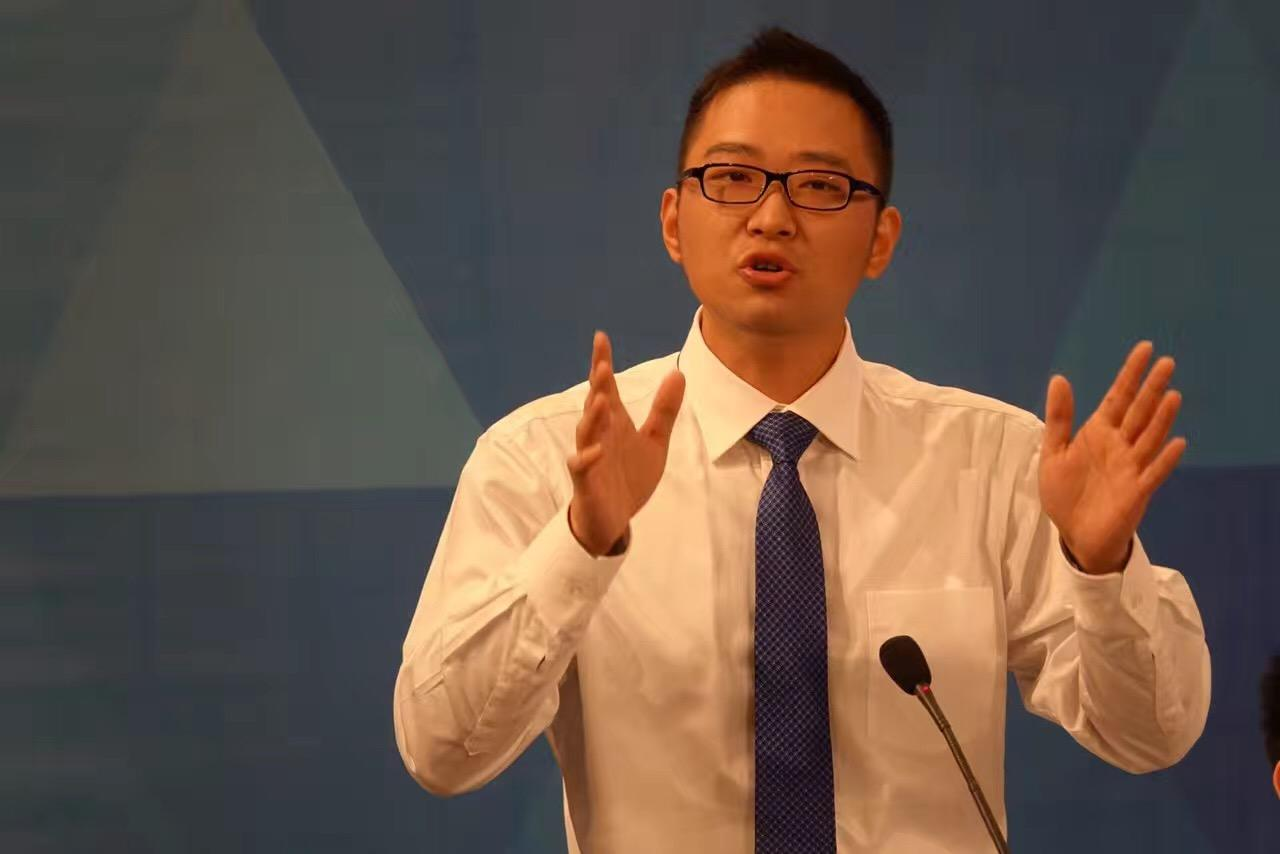no-phone: (1034, 336, 1188, 556), (563, 325, 691, 535)
